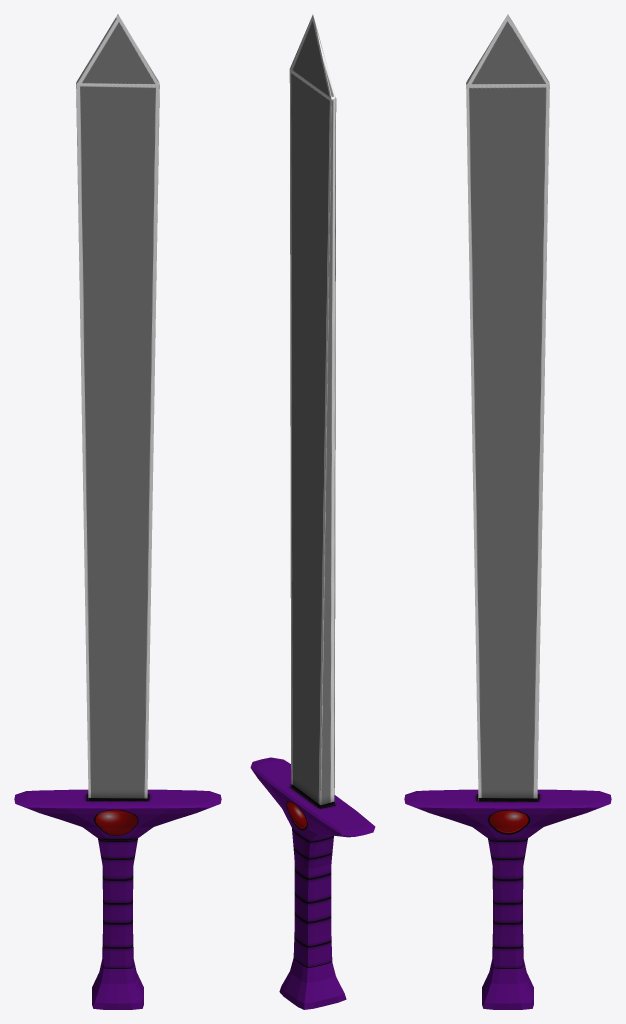
Rendered from Sword.fbx.
The picture shows the model from 3 angles, left to right: view 1: azimuth 90°, elevation 25°; view 2: azimuth 210°, elevation 25°; view 3: azimuth 270°, elevation 25°; orthographic projection.
Parts seen in each view (by area): view 1: Cube; view 2: Cube; view 3: Cube.
Part boxes in pixels (x1,y1,x2,y2): Cube: [14, 14, 221, 1009]; Cube: [250, 14, 375, 1009]; Cube: [404, 14, 611, 1009].
Bounding box in the file's own units: 0.1149 × 2.4 × 0.4574.
